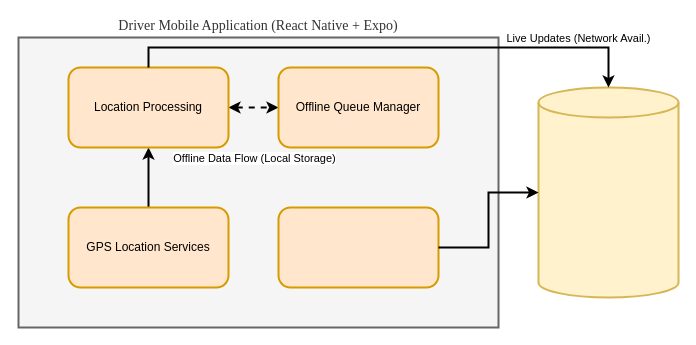
Image size: 696x345. Some labels were removed from this diagram. The shapes that lost their labels are listed below. From the top down, each one's box as (x1, y1, x2, y2) in pixels, then its label:
(537, 86, 679, 298): Supabase Backend (PostgreSQL, Realtime Engine, RLS)
(277, 206, 439, 288): Trip Control
